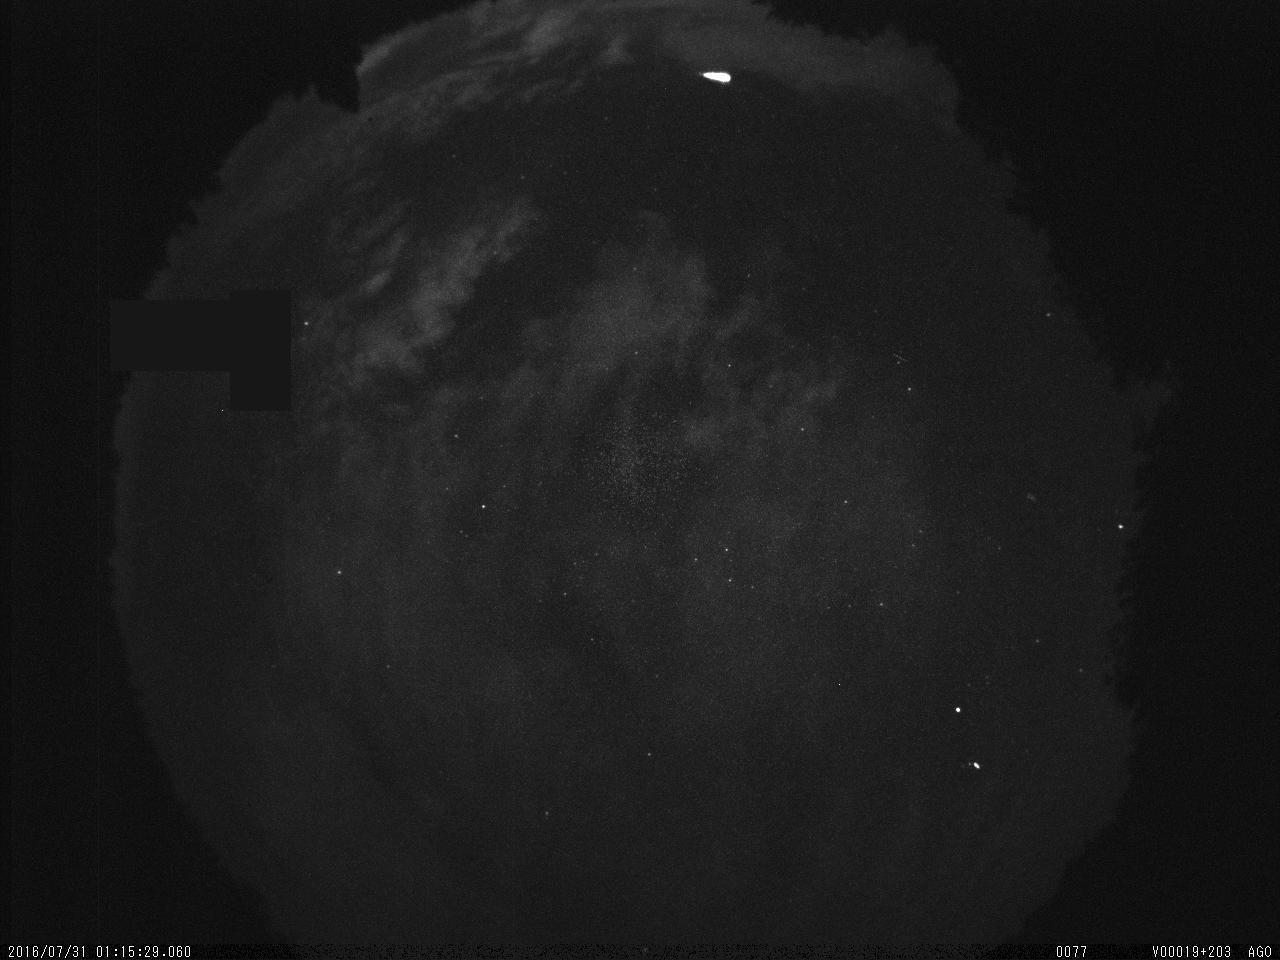Meteor: (695, 63, 739, 91)
